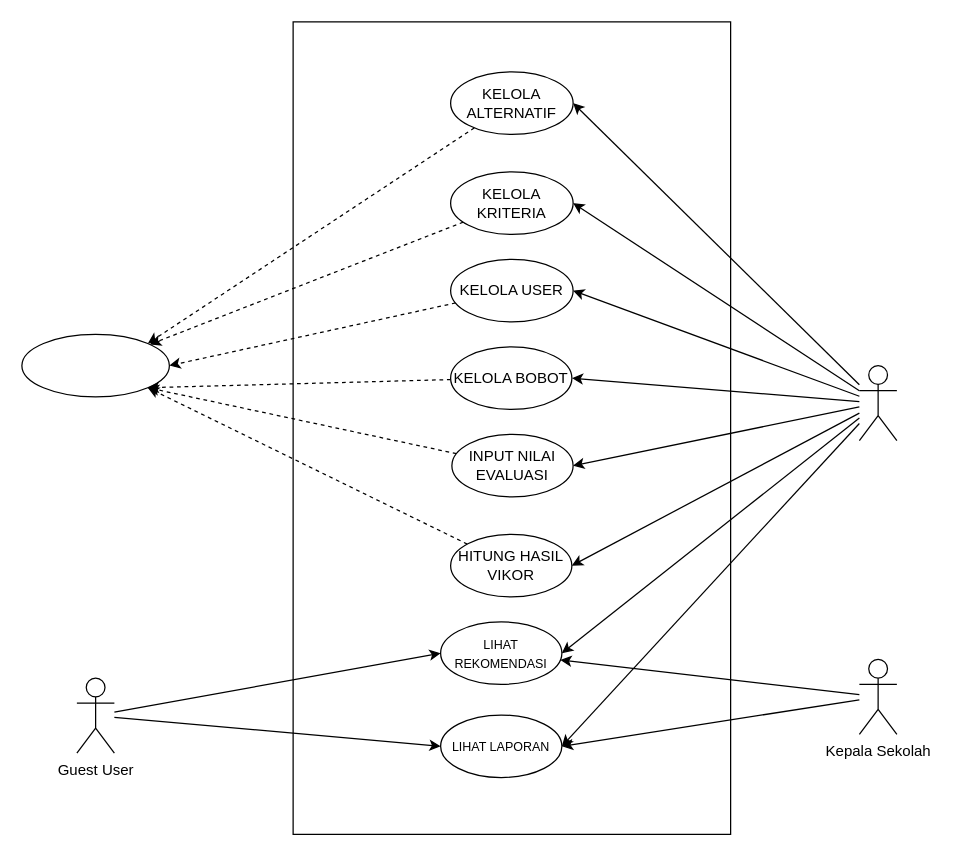
Image size: 953x856. Some labels were removed from this diagram. Here are the shapes that lost their labels. From the top down, the centre of each, then its label:
At [95,365]: "LOGIN".
At [877,402]: "Admin".
